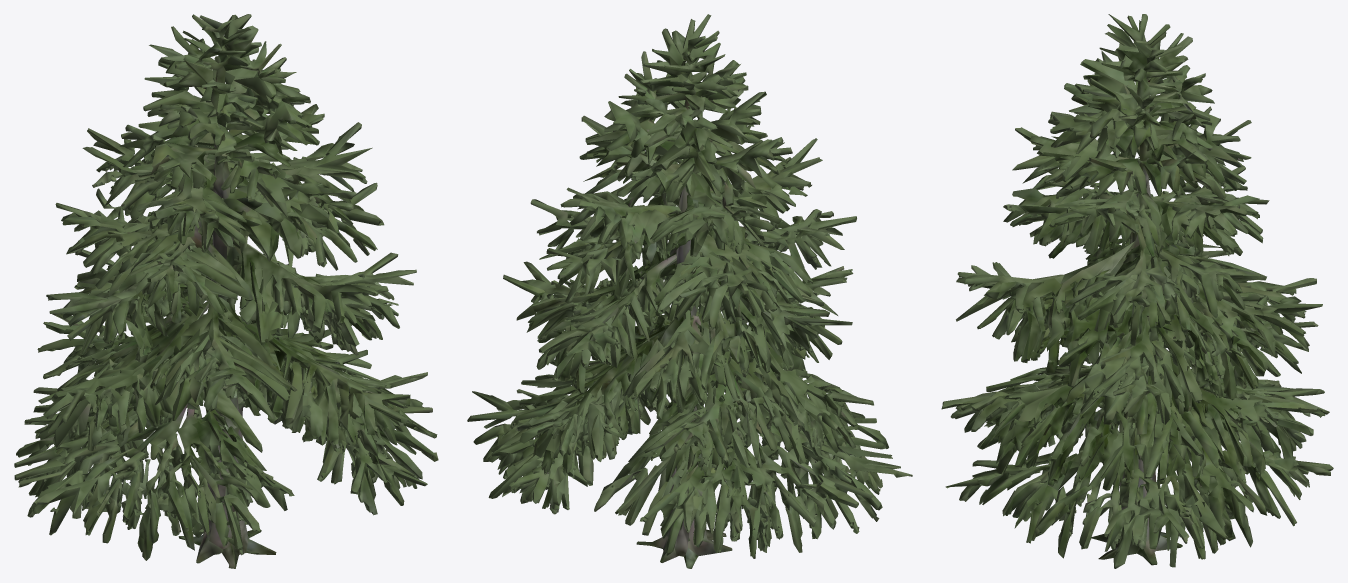
The model's file is fir-fabri-01-lod.glb.
3 views of the same model, side by side, from view 1: azimuth 30°, elevation 25°; view 2: azimuth 150°, elevation 25°; view 3: azimuth 270°, elevation 25° (orthographic). The views are drawn at different scales.
Parts seen in each view (by area): view 1: geometry_0; view 2: geometry_0; view 3: geometry_0.
Part boxes in pixels (x1=…): geometry_0: x1=14, y1=14, x2=438, y2=568; geometry_0: x1=467, y1=14, x2=912, y2=568; geometry_0: x1=941, y1=14, x2=1333, y2=568.
Bounding box in the file's own units: 6.56 × 8 × 5.39.
Materials: 1 (1 with a texture image).
